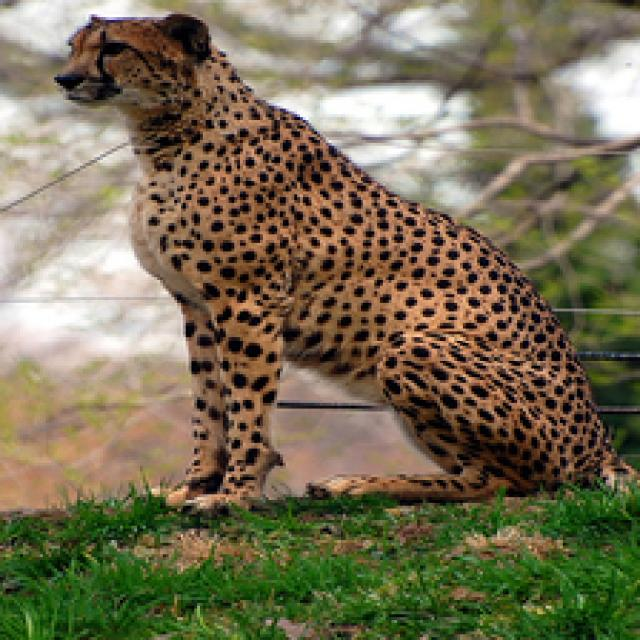cheetah: (56, 9, 620, 516)
